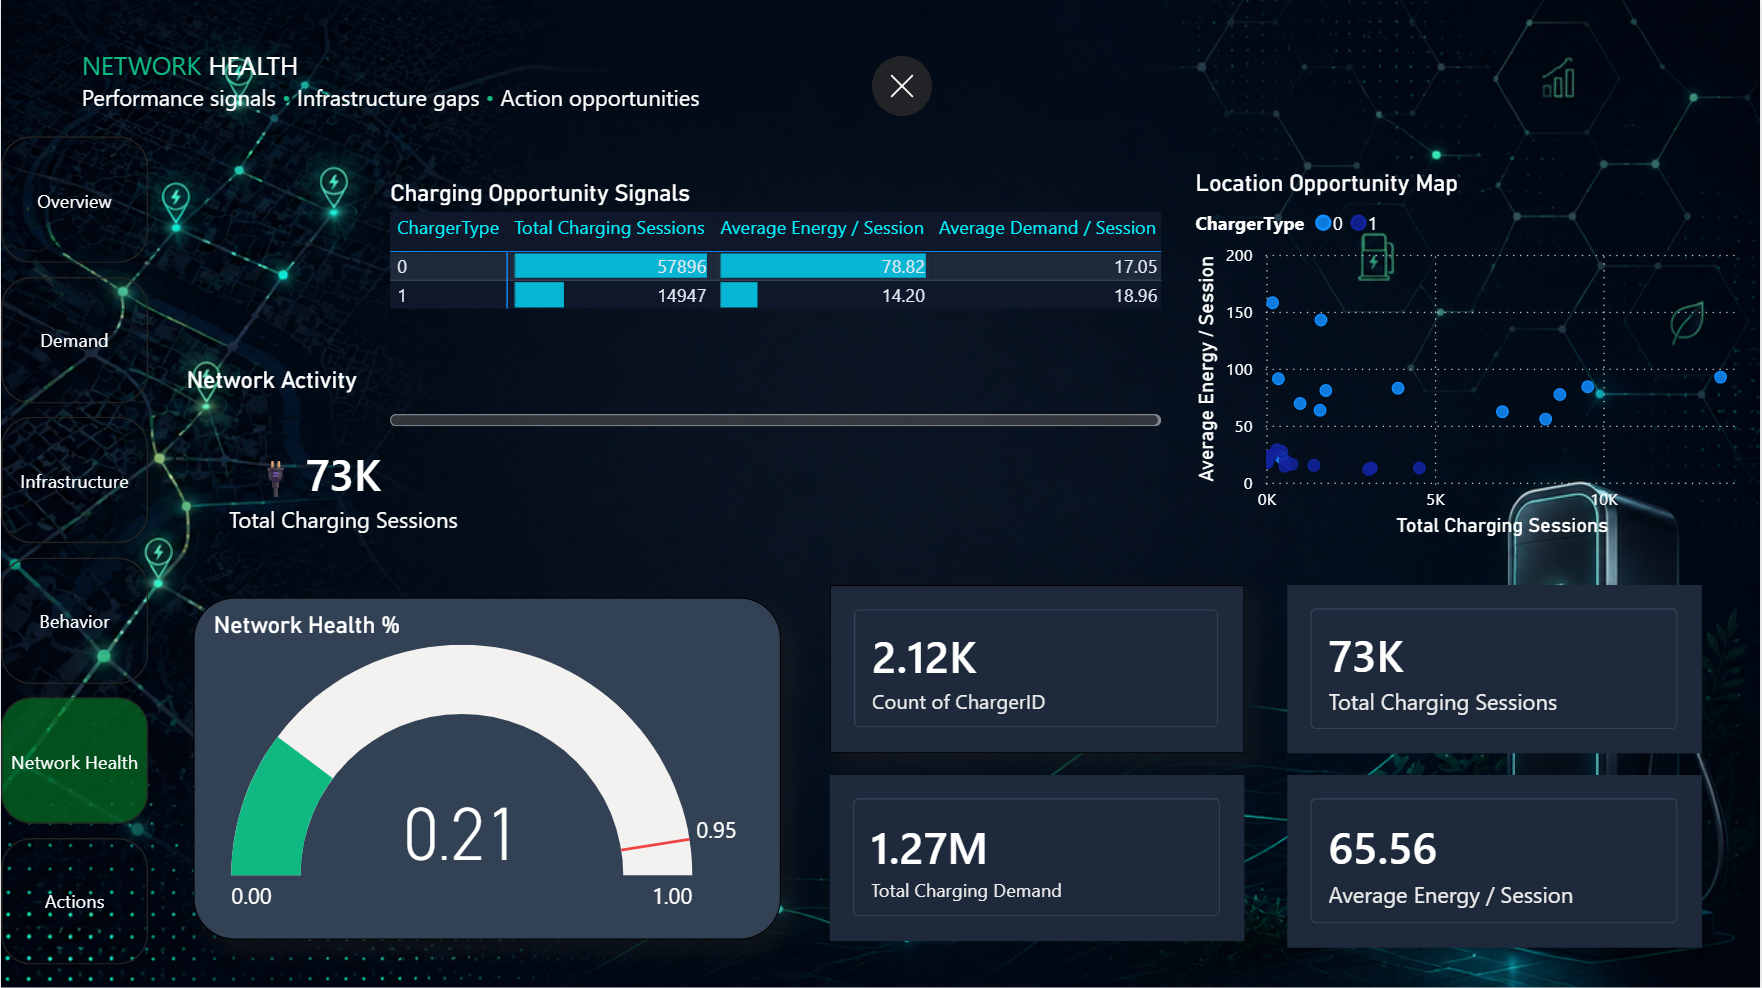

Layout of this report page (visuals, bound fields, positions):
{"tool":"powerbi","page":{"name":"Network Health","canvas":[1280,720],"ordinal":4},"visuals":[{"type":"textbox","box":[53.4,30.3,505,69.3],"z":0},{"type":"cardVisual","title":"Network Activity","fields":{"Data":["Calculation_tbl.Total Charging Sessions"]},"box":[130.4,266.1,238.1,158.7],"z":0,"group":"g1"},{"type":"pageNavigator","box":[0,99.4,107.9,604.7],"z":1000},{"type":"group","id":"g1","title":"Group_NetworkHealth","box":[130.4,122.9,1148.2,302],"z":2000},{"type":"pivotTable","title":"Charging Opportunity Signals","fields":{"Rows":["Dim_Charger.ChargerType"],"Values":["Calculation_tbl.Total Charging Sessions","Calculation_tbl.Average Energy / Session","Calculation_tbl.Average Demand / Session"]},"box":[279,130.6,570.7,185.2],"z":2000,"group":"g1"},{"type":"scatterChart","title":"Location Opportunity Map","fields":{"Category":["Fact_Charging_Records.Location"],"Series":["Dim_Charger.ChargerType"],"X":["Calculation_tbl.Total Charging Sessions"],"Y":["Calculation_tbl.Average Energy / Session"]},"box":[863.6,122.9,415,272],"z":3000,"group":"g1"},{"type":"gauge","fields":{"Y":["Calculation_tbl.Network Health %"]},"box":[139.8,434.8,427,248.4],"z":3000},{"type":"cardVisual","fields":{"Data":["CountNonNull(Dim_Charger.ChargerID)"]},"box":[602.6,425.1,301.3,122.3],"z":4000},{"type":"cardVisual","fields":{"Data":["Calculation_tbl.Total Charging Sessions"]},"box":[935.2,425.1,301.3,122.3],"z":5000},{"type":"cardVisual","fields":{"Data":["Calculation_tbl.Total Charging Demand"]},"box":[602.6,563.8,301.3,120.8],"z":6000},{"type":"cardVisual","fields":{"Data":["Calculation_tbl.Average Energy / Session"]},"box":[935.2,563.8,301.3,125.3],"z":7000},{"type":"textbox","box":[176.1,324.5,73.6,119.4],"z":7001}]}

Visuals, with their boxes in screenshot pixels (x1, y1, x2, y2), scaled from the page's 1280x720 canvas onto the 1762x988 screenshot:
textbox: select_region(74, 42, 769, 137)
"Network Activity" cardVisual: select_region(180, 365, 507, 583)
pageNavigator: select_region(0, 136, 149, 966)
"Group_NetworkHealth" group: select_region(180, 169, 1760, 583)
"Charging Opportunity Signals" pivotTable: select_region(384, 179, 1170, 433)
"Location Opportunity Map" scatterChart: select_region(1189, 169, 1760, 542)
gauge - Calculation_tbl.Network Health %: select_region(192, 597, 780, 938)
cardVisual - CountNonNull(Dim_Charger.ChargerID): select_region(830, 583, 1244, 751)
cardVisual - Calculation_tbl.Total Charging Sessions: select_region(1287, 583, 1702, 751)
cardVisual - Calculation_tbl.Total Charging Demand: select_region(830, 774, 1244, 939)
cardVisual - Calculation_tbl.Average Energy / Session: select_region(1287, 774, 1702, 946)
textbox: select_region(242, 445, 344, 609)
